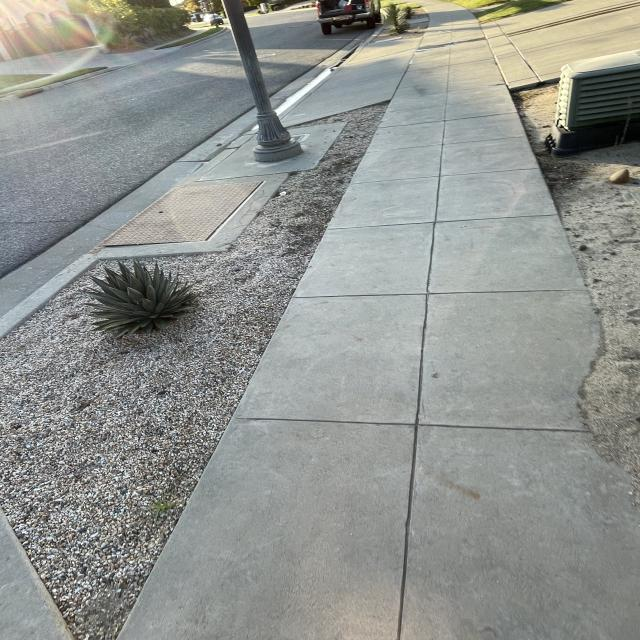curb: (2, 228, 221, 272)
road: (8, 92, 152, 204), (91, 68, 250, 128)
walkway: (209, 470, 611, 640), (288, 318, 595, 498), (332, 236, 564, 404), (360, 172, 541, 288), (398, 100, 514, 177), (432, 16, 482, 120)
walkway-edge: (512, 84, 613, 326), (582, 305, 640, 488), (137, 476, 208, 609), (356, 102, 398, 148)
